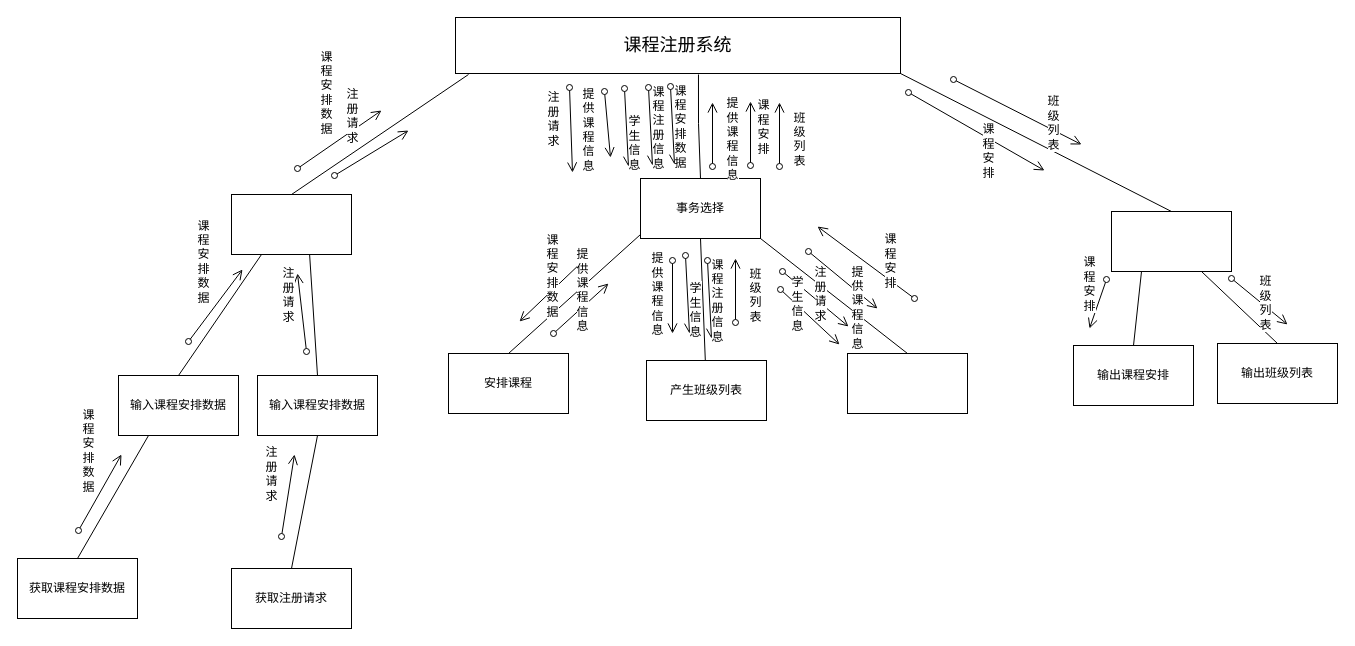
Some shapes in this 1355 by 646 pixel diagram are drawn without their labels. The shapes that lost their labels are listed below. From the top down, each one's box as (x1, y1, x2, y2) in pixels, then its label:
(230, 194, 352, 254): 输入
(1110, 210, 1232, 272): 输出
(846, 352, 968, 414): 注册学生
